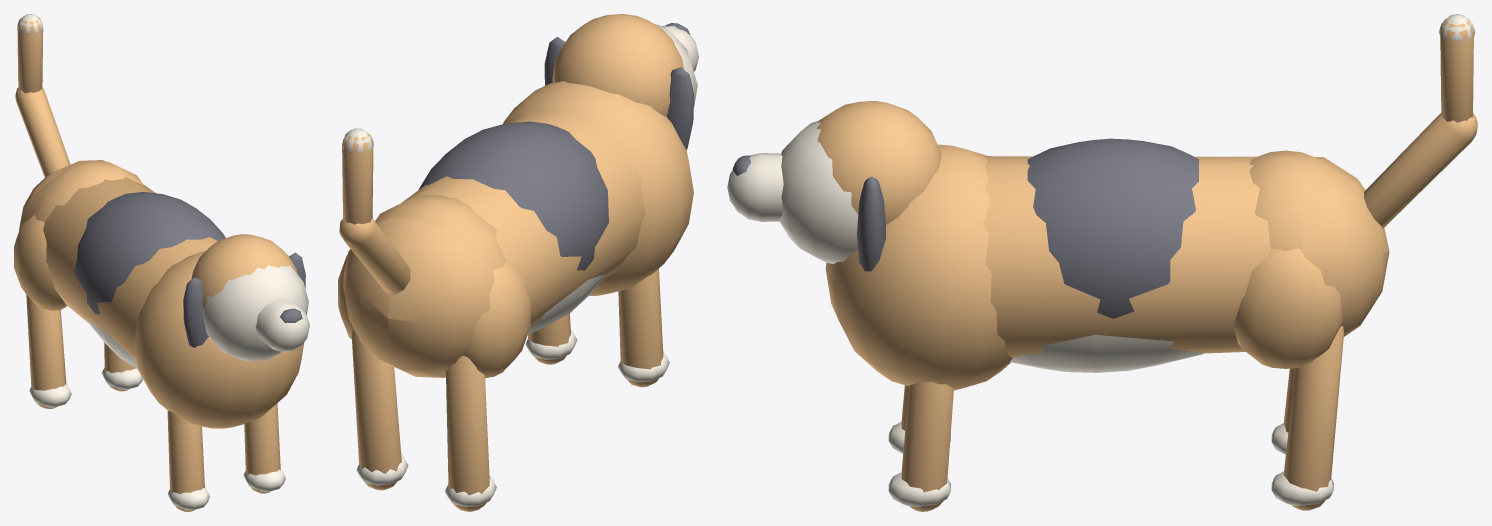
The model's file is dog.glb.
3 views of the same model, side by side, from view 1: azimuth 30°, elevation 25°; view 2: azimuth 150°, elevation 25°; view 3: azimuth 270°, elevation 25° (orthographic). The views are drawn at different scales.
Visible parts, largest first — view 1: dog-hound; view 2: dog-hound; view 3: dog-hound.
Part boxes in pixels (x1,y1,x2,y2): dog-hound: [14, 14, 309, 511]; dog-hound: [338, 14, 698, 511]; dog-hound: [727, 14, 1477, 511].
Bounding box in the file's own units: 0.276 × 0.5972 × 0.8664.
